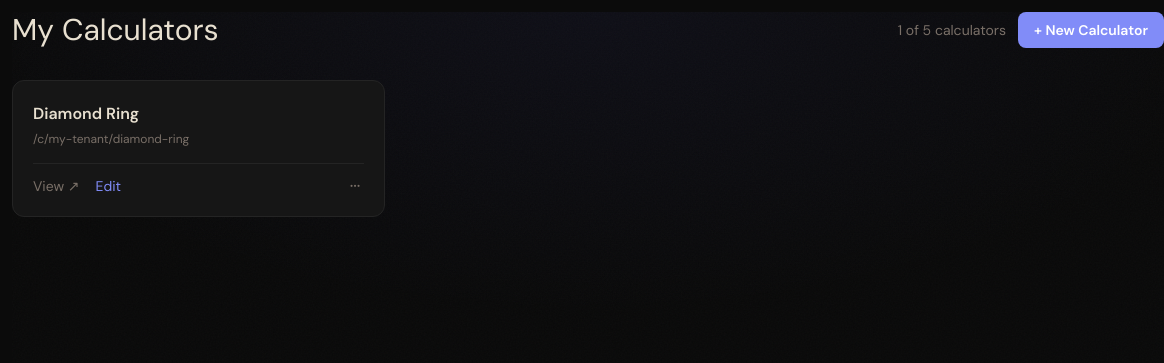
Dashboard › shows duplicate button when not at limit
Click the button named "more actions" at (355,186), box 346,177 -> 364,195
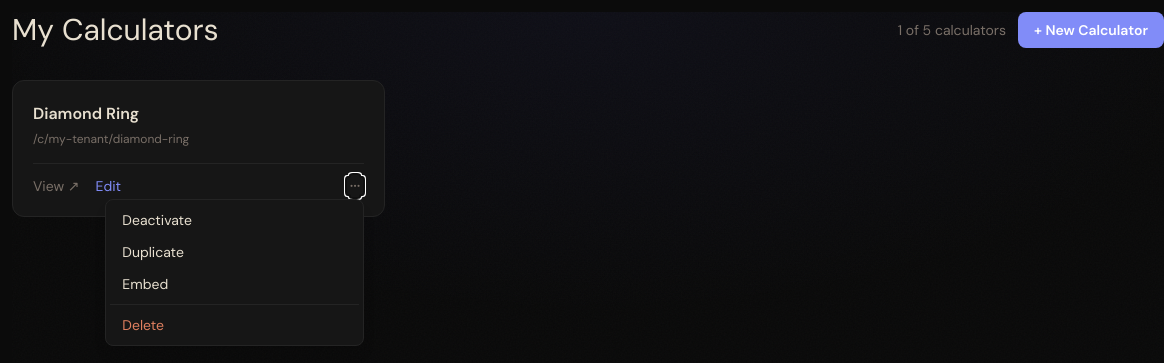
Expected: the button "Duplicate" is shown, 110,236 -> 359,268
